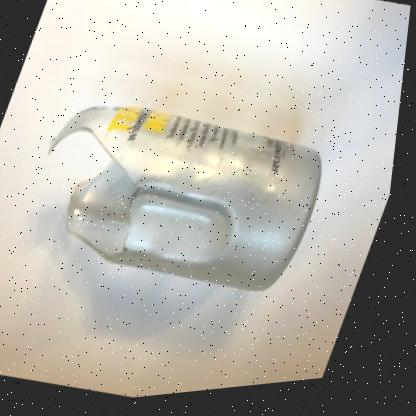Glass: (53, 109, 326, 298)
